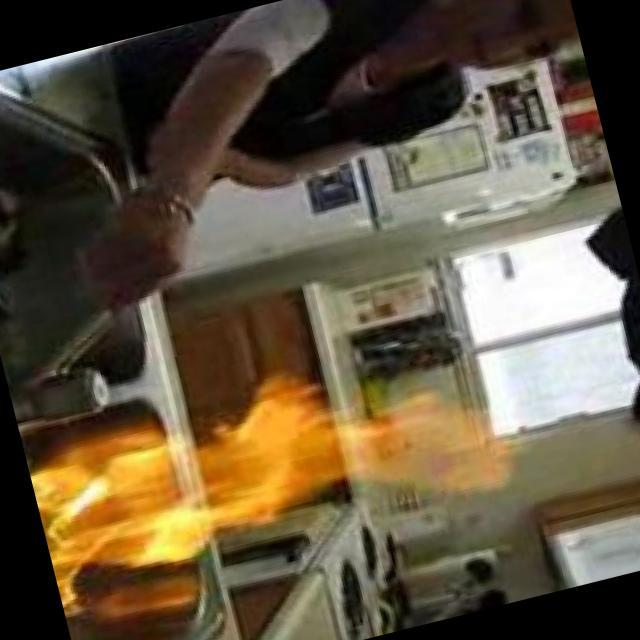Fire: (23, 330, 522, 600)
